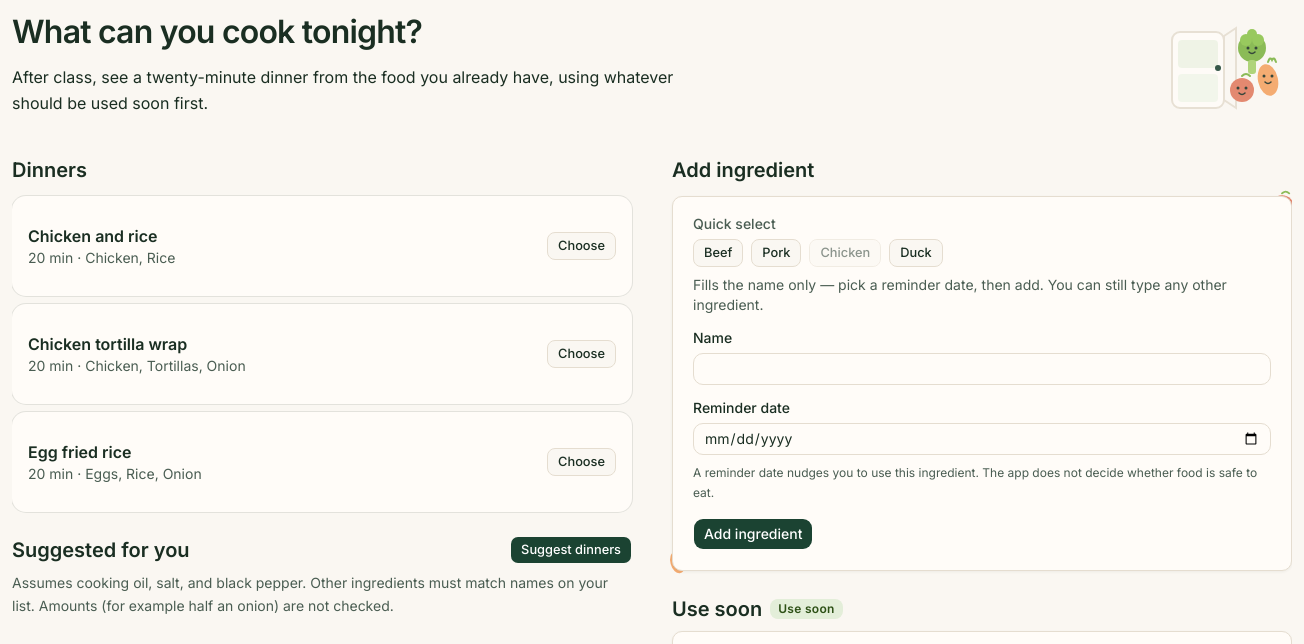
Test case: KitchenApp › rejects blank ingredient input
Expected: the heading "Dinners" is shown, [12,158,87,182]
Click the button "Add ingredient" at (753, 534), box [693,518,814,550]
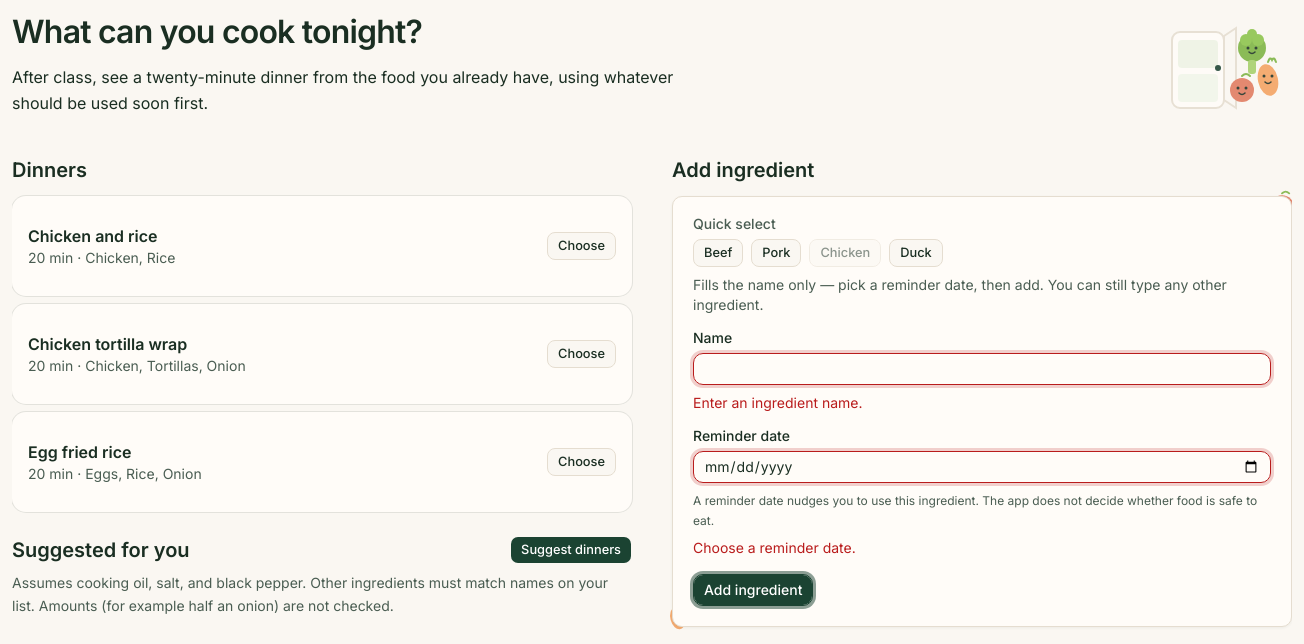
Expected: the text "Enter an ingredient name." is shown, [693,394,862,411]
